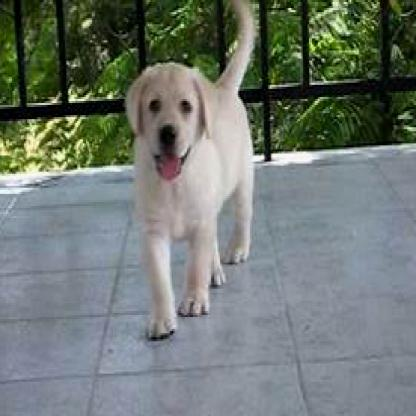dog: (123, 0, 263, 344)
